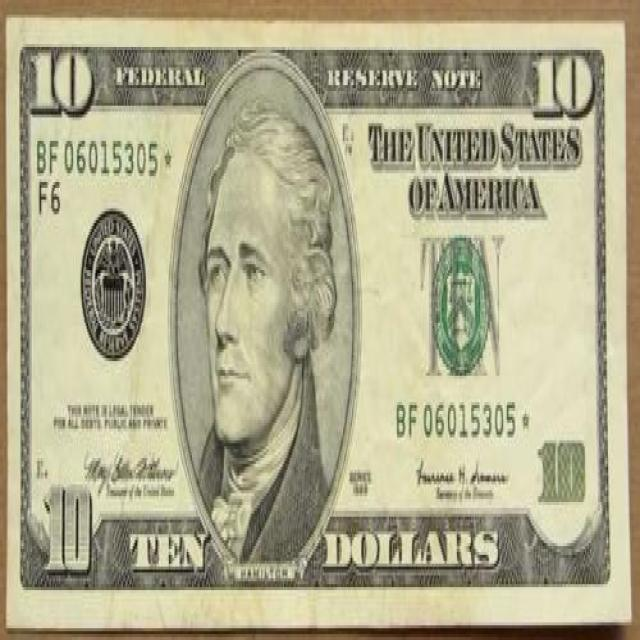10-Front: (5, 15, 630, 631)
